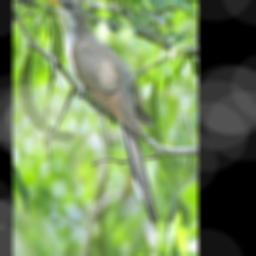Cuckoo: (44, 0, 158, 224)
